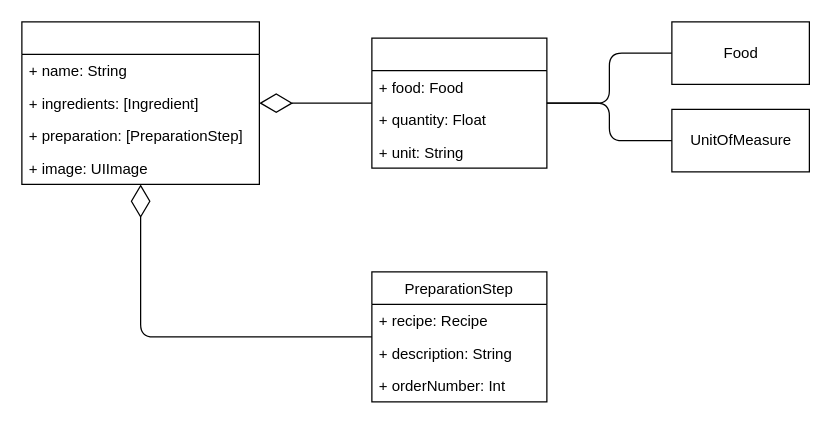
Some shapes in this 831 by 428 pixel diagram are drawn without their labels. The box of each missing label's shape, as (x1, y1, x2, y2) in pixels:
Ingredient: (371, 37, 547, 168)
Recipient: (21, 21, 259, 184)
